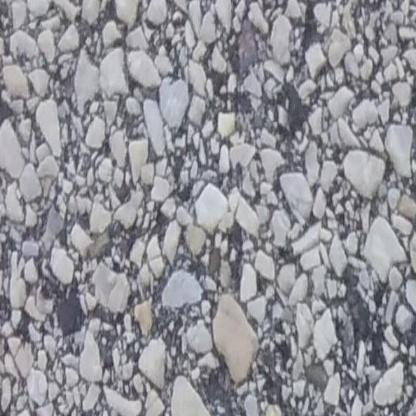Cracks: (0, 402, 41, 416)
